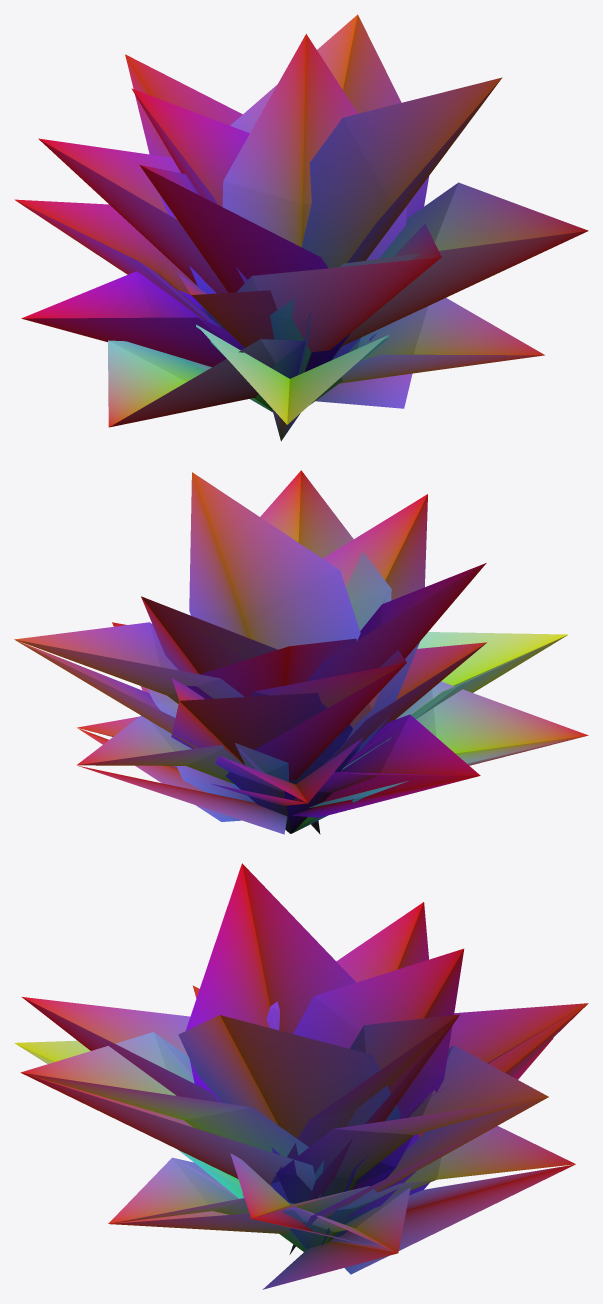
The model's file is woodfern_up.dae.
The picture shows the model from 3 angles, top to bottom: view 1: azimuth 30°, elevation 25°; view 2: azimuth 150°, elevation 25°; view 3: azimuth 270°, elevation 25°; orthographic projection. The views are drawn at different scales.
Parts seen in each view (by area): view 1: fern_up64, fern_up8; view 2: fern_up64, fern_up8; view 3: fern_up64, fern_up8.
Boxes of the visible parts, x1,y1,x2,y2 form: fern_up64: [14, 14, 588, 427]; fern_up8: [16, 78, 587, 441]; fern_up64: [14, 470, 588, 833]; fern_up8: [15, 563, 583, 834]; fern_up64: [14, 863, 588, 1252]; fern_up8: [18, 997, 588, 1289].
Bounding box in the file's own units: 1.31 × 1.38 × 0.8642.
